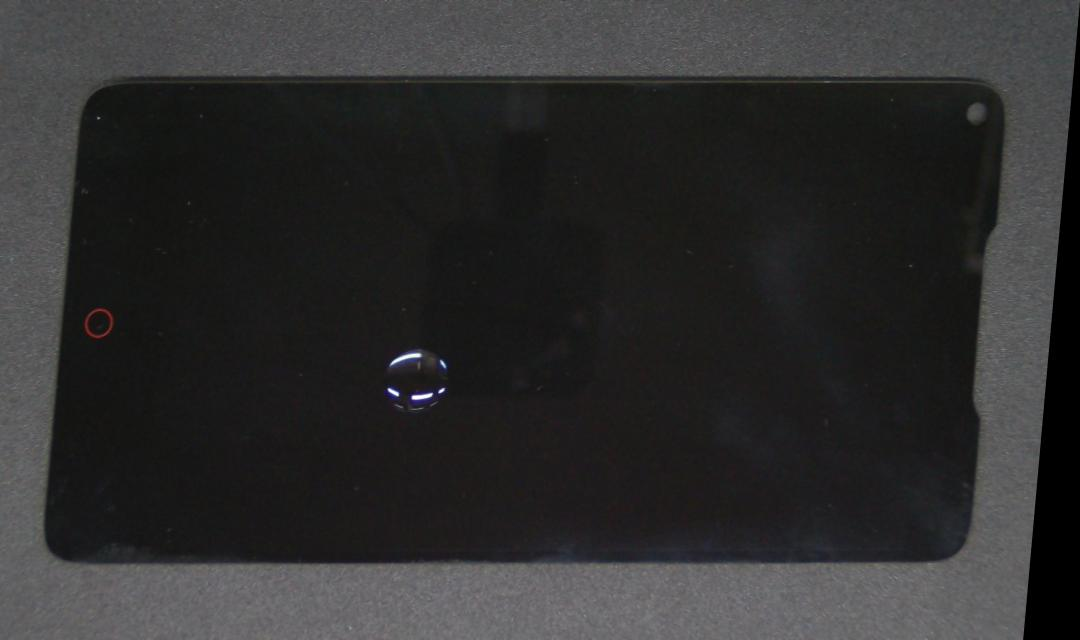oil: (361, 336, 459, 421)
